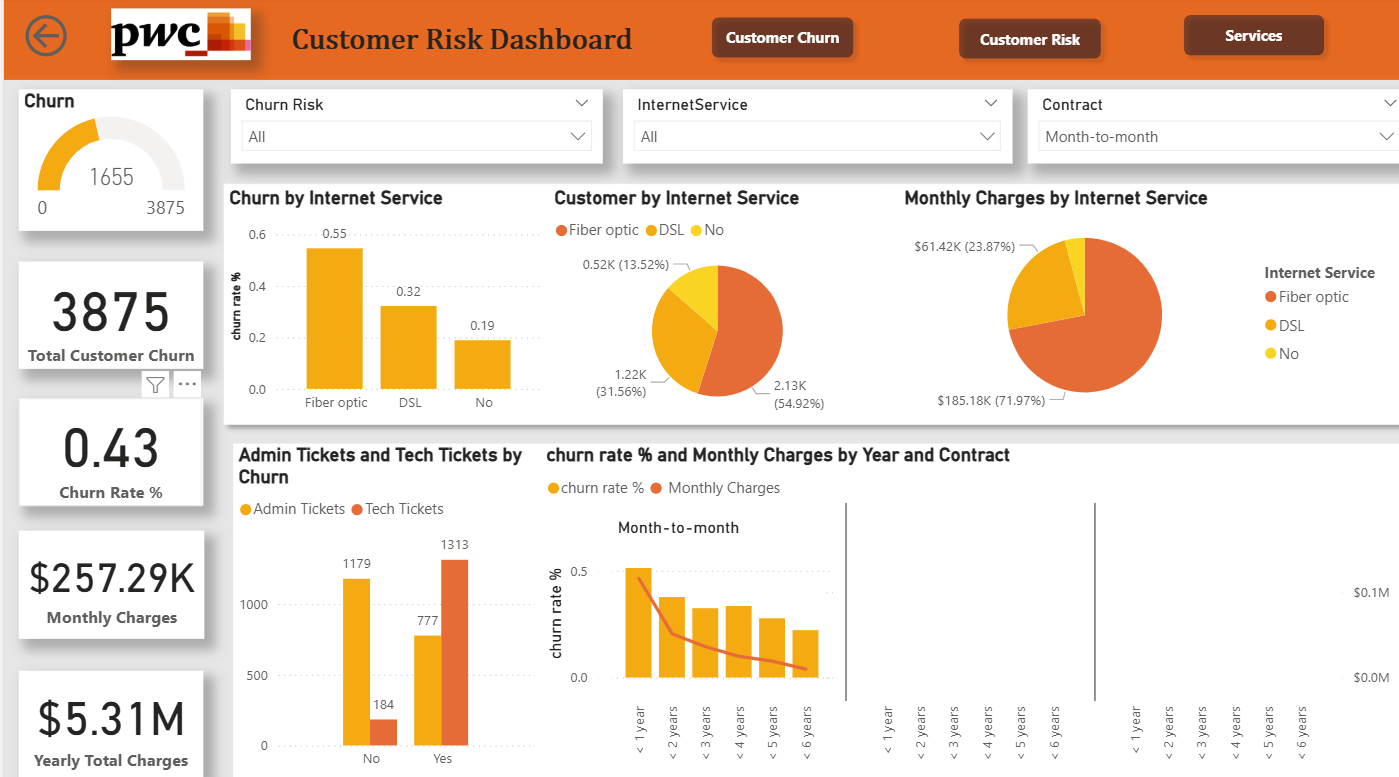

Layout of this report page (visuals, bound fields, positions):
{"tool":"powerbi","page":{"name":"Customer Risk Dashboard","canvas":[1280,720],"ordinal":2},"visuals":[{"type":"shape","box":[188,158.3,1077,234.4],"z":0},{"type":"shape","box":[0,0,1279.9,74.5],"z":1000},{"type":"slicer","fields":{"Values":["01 Churn-Dataset.Churn"]},"box":[203.5,83.3,334.4,66.6],"z":2000},{"type":"slicer","fields":{"Values":["01 Churn-Dataset.InternetService"]},"box":[555.8,83.3,349.9,66.6],"z":3000},{"type":"slicer","fields":{"Values":["01 Churn-Dataset.Contract"]},"box":[919.9,83.3,345.1,66.6],"z":4000},{"type":"card","fields":{"Values":["CountNonNull(01 Churn-Dataset.Churn)"]},"box":[13.1,238,165.4,96.4],"z":5000},{"type":"card","fields":{"Values":["01 Churn-Dataset.churn rate %"]},"box":[13.1,360.6,165.4,96.4],"z":6000},{"type":"card","fields":{"Values":["Sum(01 Churn-Dataset.TotalCharges)"]},"box":[13.1,605.8,165.4,96.4],"z":7000},{"type":"gauge","fields":{"Y":["01 Churn-Dataset.churn count"]},"box":[13.1,83.3,165.4,127.3],"z":8000},{"type":"columnChart","title":"Churn by Internet Service","fields":{"Category":["01 Churn-Dataset.InternetService"],"Y":["01 Churn-Dataset.churn rate %"]},"box":[197.6,170.2,291.6,211.8],"z":9000},{"type":"pieChart","title":" Customer by Internet Service","fields":{"Category":["01 Churn-Dataset.InternetService"],"Y":["CountNonNull(01 Churn-Dataset.customerID)"]},"box":[489.1,170.2,302.3,211.8],"z":10000},{"type":"pieChart","fields":{"Category":["01 Churn-Dataset.InternetService"],"Y":["Sum(01 Churn-Dataset.MonthlyCharges)"]},"box":[804.5,170.2,447.5,211.8],"z":11000},{"type":"actionButton","box":[626.8,8.8,145.5,54.3],"z":12000,"group":"g1"},{"type":"shape","box":[197.6,392.7,1067.5,318.9],"z":12000},{"type":"actionButton","box":[849.1,10.3,145.5,54.3],"z":13000,"group":"g1"},{"type":"clusteredColumnChart","title":"Admin Tickets and Tech Tickets by Churn","fields":{"Category":["01 Churn-Dataset.Churn"],"Y":["Sum(01 Churn-Dataset.numAdminTickets)","Sum(01 Churn-Dataset.numTechTickets)"]},"box":[205.9,401.1,276.1,301.1],"z":13000},{"type":"actionButton","box":[1050.9,6.8,144.4,54.3],"z":14000,"group":"g1"},{"type":"lineClusteredColumnComboChart","title":"churn rate % and Monthly Charges by Year and Contract","fields":{"Category":["01 Churn-Dataset.loyalty"],"Y":["01 Churn-Dataset.churn rate %"],"Y2":["Sum(01 Churn-Dataset.MonthlyCharges)"],"Rows":["01 Churn-Dataset.Contract"]},"box":[482,401.1,770,301.1],"z":14000},{"type":"card","fields":{"Values":["Sum(01 Churn-Dataset.MonthlyCharges)"]},"box":[13.1,479.6,166.6,97.6],"z":15000},{"type":"textbox","box":[253.3,18.3,366.7,48.3],"z":20000},{"type":"image","box":[96.7,10,125,46.7],"z":21000},{"type":"actionButton","box":[13.3,10,51.7,48.3],"z":22000},{"type":"group","id":"g1","title":"Group 1","box":[626.8,6.8,568.5,57.8],"z":22001}]}

Visuals, with their boxes in screenshot pixels (x1, y1, x2, y2), scaled from the page's 1280x720 canvas onto the 1399x777 screenshot:
shape: [205, 171, 1383, 424]
shape: [0, 0, 1398, 80]
slicer - 01 Churn-Dataset.Churn: [222, 90, 588, 162]
slicer - 01 Churn-Dataset.InternetService: [607, 90, 990, 162]
slicer - 01 Churn-Dataset.Contract: [1005, 90, 1383, 162]
card - CountNonNull(01 Churn-Dataset.Churn): [14, 257, 195, 361]
card - 01 Churn-Dataset.churn rate %: [14, 389, 195, 493]
card - Sum(01 Churn-Dataset.TotalCharges): [14, 654, 195, 758]
gauge - 01 Churn-Dataset.churn count: [14, 90, 195, 227]
"Churn by Internet Service" columnChart: [216, 184, 535, 412]
" Customer by Internet Service" pieChart: [535, 184, 865, 412]
pieChart - 01 Churn-Dataset.InternetService x Sum(01 Churn-Dataset.MonthlyCharges): [879, 184, 1368, 412]
actionButton: [685, 9, 844, 68]
shape: [216, 424, 1383, 768]
actionButton: [928, 11, 1087, 70]
"Admin Tickets and Tech Tickets by Churn" clusteredColumnChart: [225, 433, 527, 758]
actionButton: [1149, 7, 1306, 66]
"churn rate % and Monthly Charges by Year and Contract" lineClusteredColumnComboChart: [527, 433, 1368, 758]
card - Sum(01 Churn-Dataset.MonthlyCharges): [14, 518, 196, 623]
textbox: [277, 20, 678, 72]
image: [106, 11, 242, 61]
actionButton: [15, 11, 71, 63]
"Group 1" group: [685, 7, 1306, 70]
